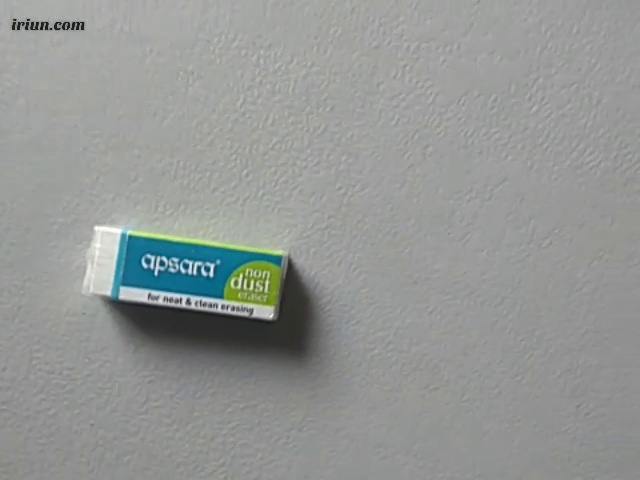Eraser: (78, 219, 293, 328)
